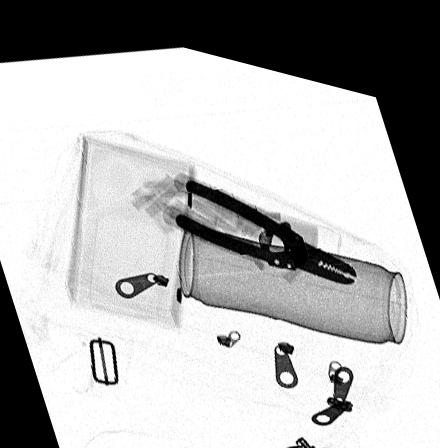Pliers: (172, 166, 360, 267)
